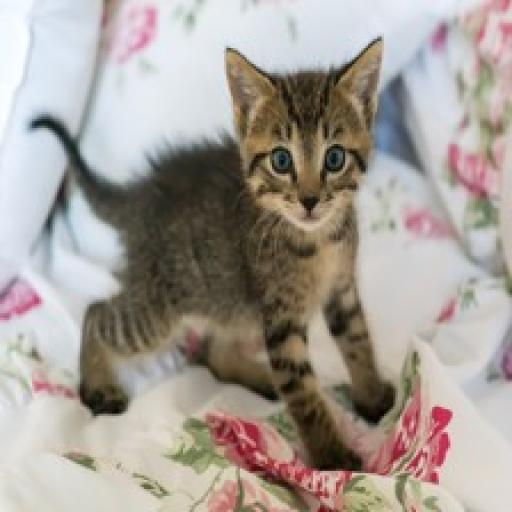cat: (20, 28, 440, 473)
